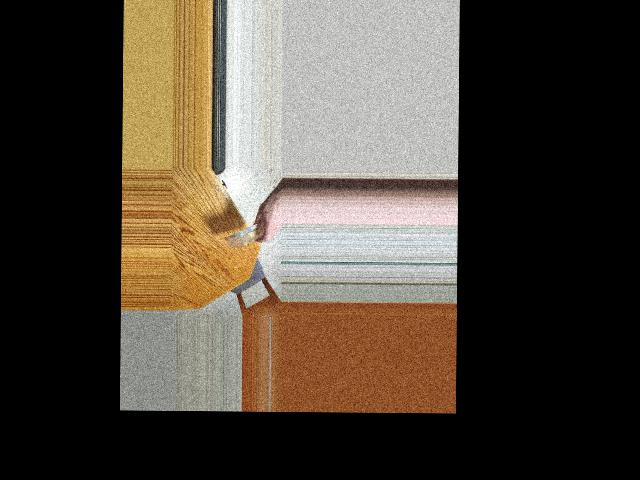cheese: (223, 223, 269, 248)
